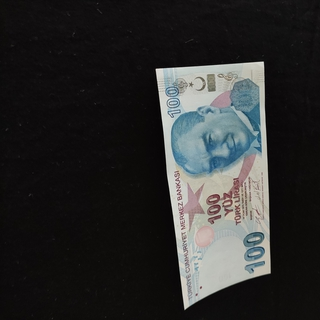100TLFront: (154, 61, 272, 311)
